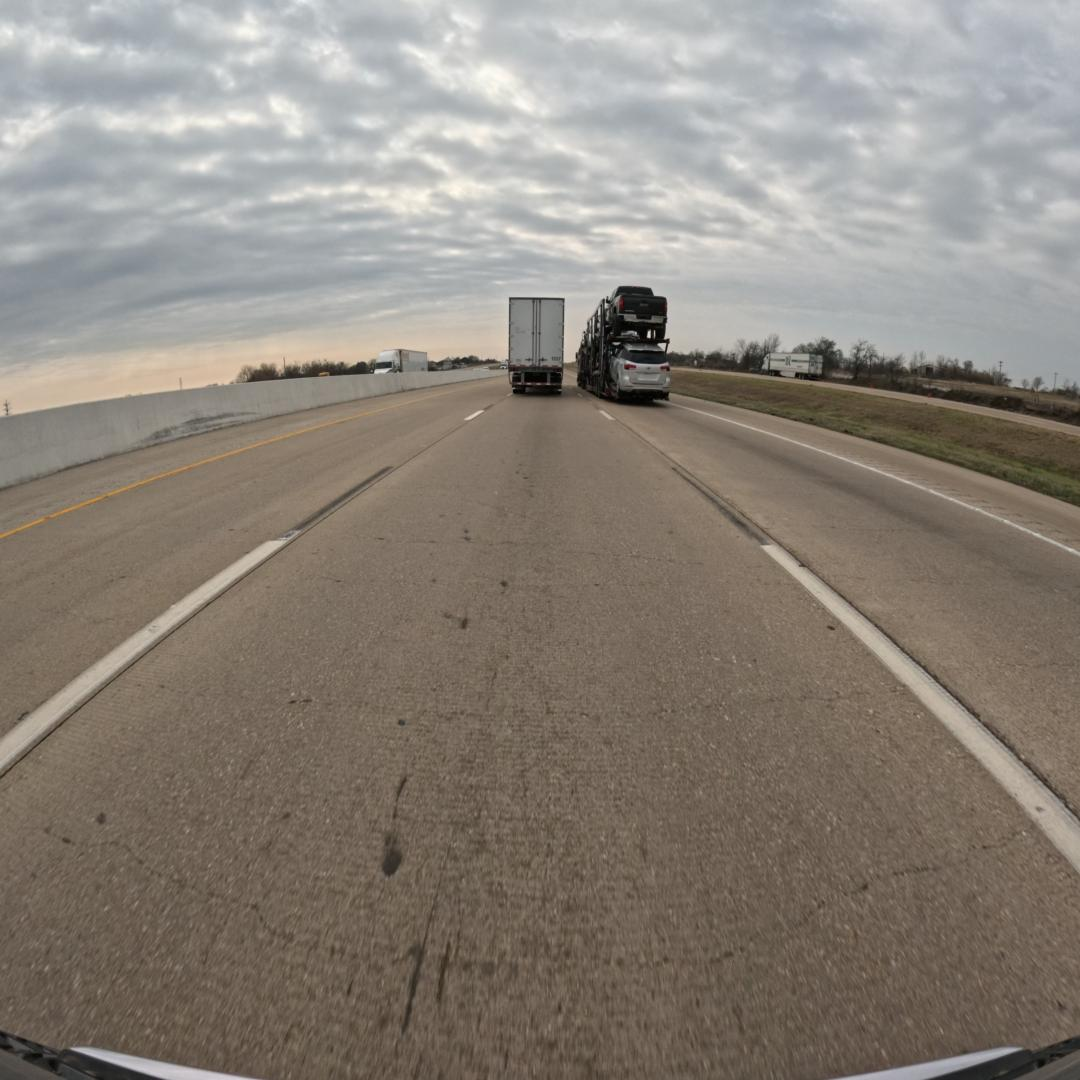lane-1: (609, 406, 1080, 814)
lane0: (0, 397, 1080, 1077)
lane1: (0, 384, 506, 775)
